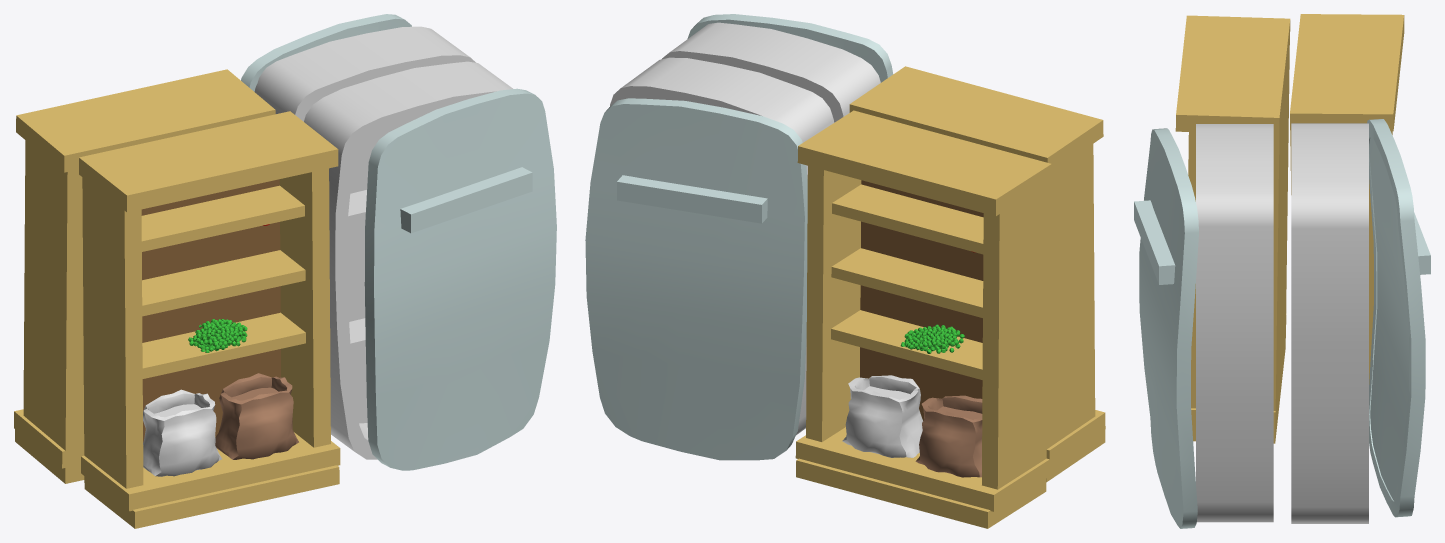
Rendered from cupboardstation.fbx.
3 views of the same model, side by side, from view 1: azimuth 30°, elevation 25°; view 2: azimuth 150°, elevation 25°; view 3: azimuth 270°, elevation 25° (orthographic).
Visible parts, largest first — view 1: door (×2), fridgecase (×2), pCube6 (×2), pCube1 (×2), pCube3 (×2), pCube2, pCube4 (×2), pCube5 (×2), bag1, pCube7, pCube8, bag (+2 smaller); view 2: door (×2), pCube6 (×2), pCube2 (×2), fridgecase (×2), pCube1 (×2), pCube3, pCube4 (×2), bag, pCube5 (×2), pCube7, pCube8, rice_sack:bag (+2 smaller); view 3: fridgecase (×2), door (×2), pCube6 (×2), pCube1, handle (×2), pCube3, pCube2.
Part boxes in pixels (x1=…): door (×2): x1=241, y1=14, x2=556, y2=470; fridgecase (×2): x1=254, y1=26, x2=512, y2=459; pCube6 (×2): x1=16, y1=69, x2=338, y2=212; pCube1 (×2): x1=56, y1=161, x2=280, y2=462; pCube3 (×2): x1=23, y1=140, x2=330, y2=447; pCube2: x1=88, y1=182, x2=143, y2=488; pCube4 (×2): x1=14, y1=409, x2=340, y2=511; pCube5 (×2): x1=15, y1=429, x2=339, y2=528; bag1: x1=215, y1=373, x2=298, y2=459; pCube7: x1=141, y1=185, x2=304, y2=251; pCube8: x1=142, y1=250, x2=305, y2=316; bag: x1=143, y1=389, x2=221, y2=476; door (×2): x1=585, y1=14, x2=893, y2=460; pCube6 (×2): x1=797, y1=66, x2=1103, y2=216; pCube2 (×2): x1=806, y1=144, x2=1095, y2=444; fridgecase (×2): x1=610, y1=22, x2=880, y2=435; pCube1 (×2): x1=860, y1=169, x2=1056, y2=465; pCube3: x1=982, y1=188, x2=1040, y2=489; pCube4 (×2): x1=795, y1=410, x2=1105, y2=511; bag: x1=842, y1=375, x2=922, y2=457; pCube5 (×2): x1=796, y1=430, x2=1105, y2=528; pCube7: x1=832, y1=184, x2=983, y2=254; pCube8: x1=831, y1=248, x2=983, y2=317; rice_sack:bag: x1=915, y1=395, x2=982, y2=477; fridgecase (×2): x1=1196, y1=123, x2=1368, y2=523; door (×2): x1=1139, y1=119, x2=1425, y2=528; pCube6 (×2): x1=1175, y1=14, x2=1404, y2=134; pCube1: x1=1273, y1=31, x2=1289, y2=416; handle (×2): x1=1134, y1=200, x2=1430, y2=284; pCube3: x1=1188, y1=132, x2=1195, y2=408; pCube2: x1=1369, y1=180, x2=1373, y2=384.
Bounding box in the file's own units: 94.95 × 74.11 × 57.29.
